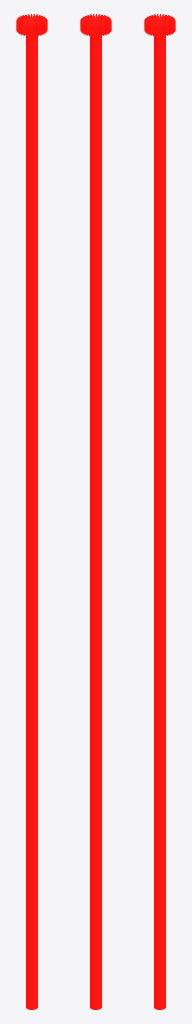
File: laser.glb
3 renders of one model, left to right at view 1: azimuth 30°, elevation 25°; view 2: azimuth 150°, elevation 25°; view 3: azimuth 330°, elevation 25°, orthographic.
Visible parts, largest first — view 1: Cylinder; view 2: Cylinder; view 3: Cylinder.
Boxes of the visible parts, x1,y1,x2,y2 form: Cylinder: [16, 14, 47, 1009]; Cylinder: [80, 14, 111, 1009]; Cylinder: [144, 14, 175, 1009].
Size of the model in its own units: 0.5138 by 18 by 0.5138.
